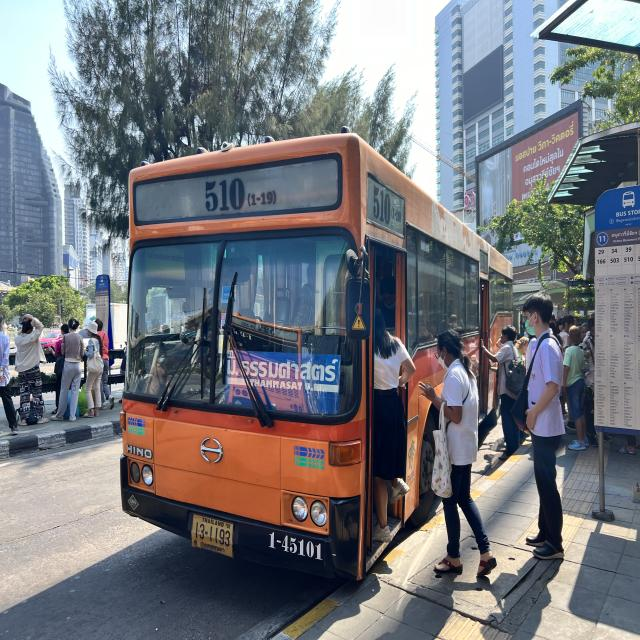BMTA-bus: (118, 133, 512, 582)
Bus-Line-Number: (199, 170, 283, 213)
Destination-Sign-Normal: (227, 351, 341, 415)
